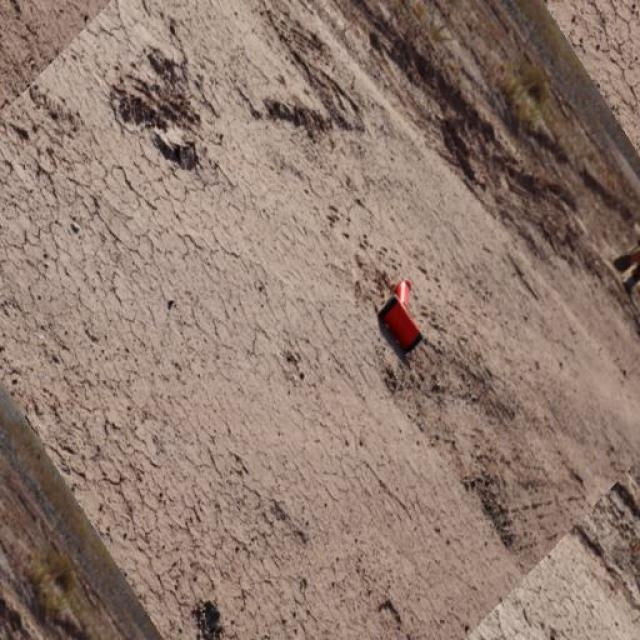mallet: (375, 278, 423, 352)
